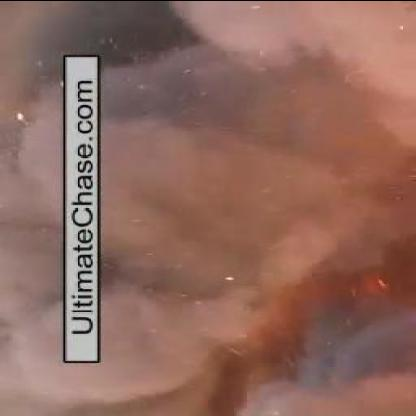-: (104, 13, 395, 404), (4, 20, 61, 400)
